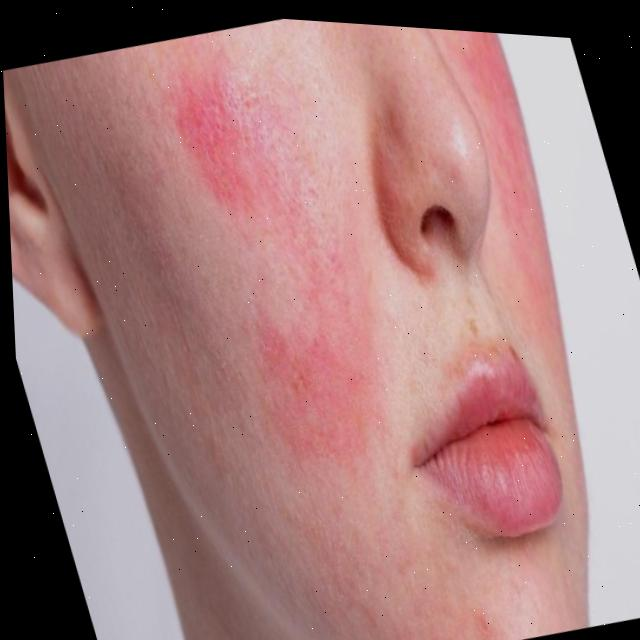Rosacea: (160, 76, 401, 447), (448, 30, 567, 317)
